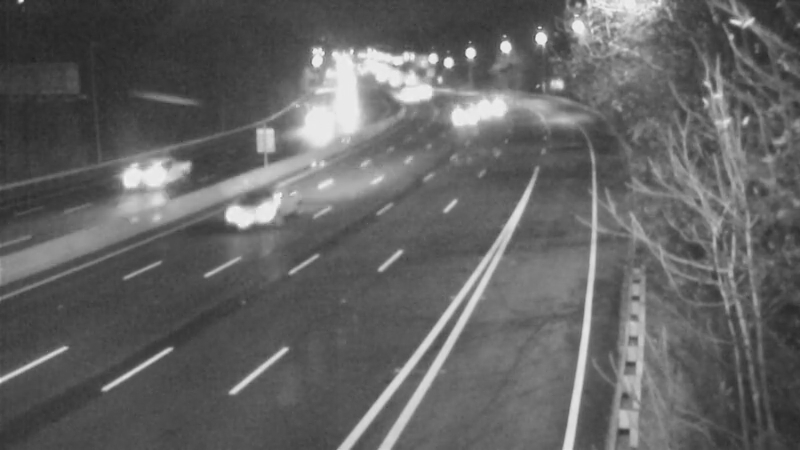vehicle: (209, 174, 289, 254), (104, 138, 184, 218), (402, 65, 452, 115), (384, 74, 434, 124), (462, 80, 512, 130), (429, 91, 479, 141), (293, 106, 343, 156)
